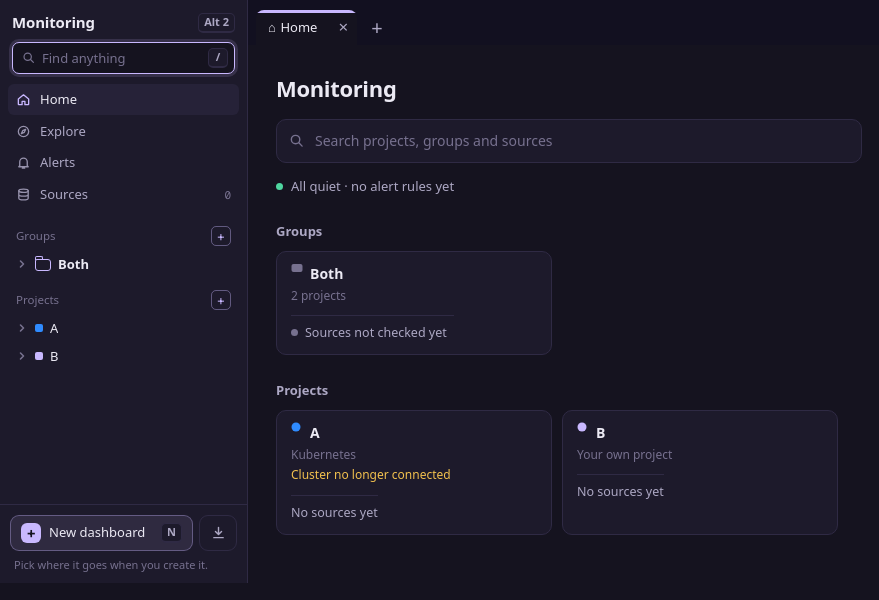
it: Monitoring sidebar › Esc in Find clears, then returns to main
The image size is (879, 600).
Later steps or results of the test are not shown.
Check: the list item "Both" is shown, box [17,255,89,273]
In the dropdown labelled "Find anything": [122, 58] box [42,43,201,73], type "A"
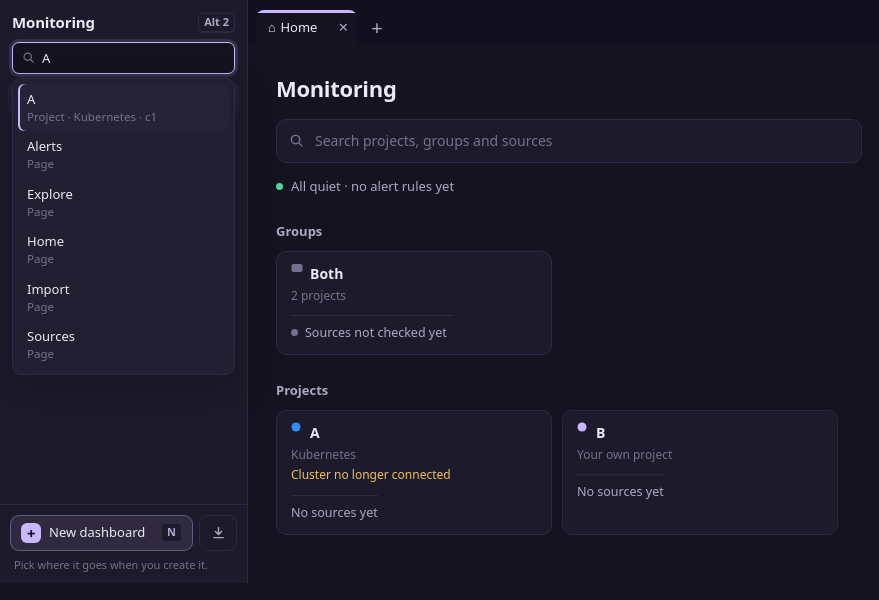
Press Escape in the dropdown named "Find anything", box [42,43,228,73]
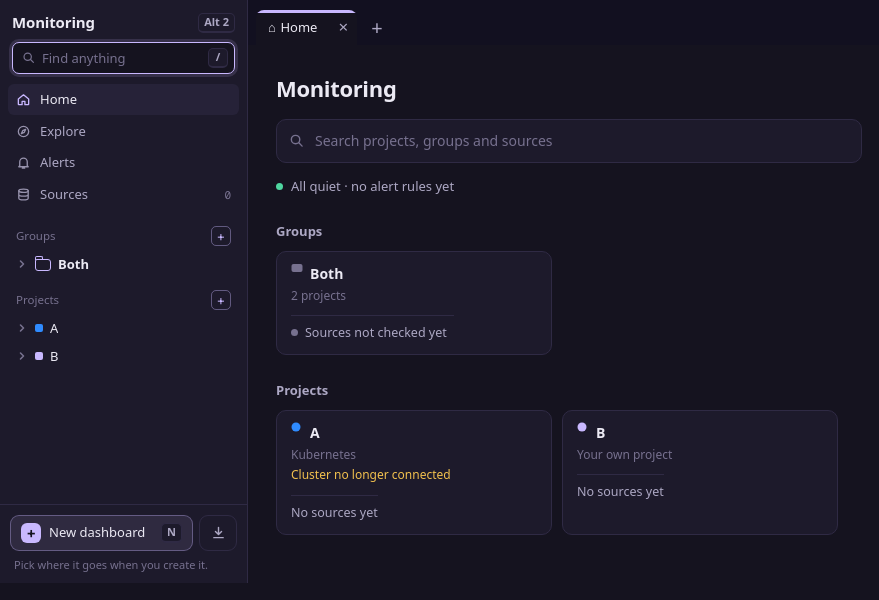
Check: the dropdown labelled "Find anything" is empty, box [42,43,201,73]
